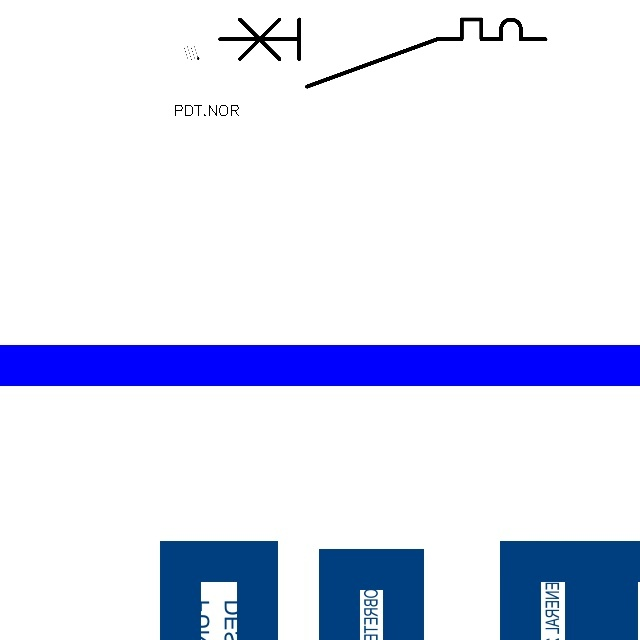interruptor_termomagnetico: (211, 11, 554, 95)
